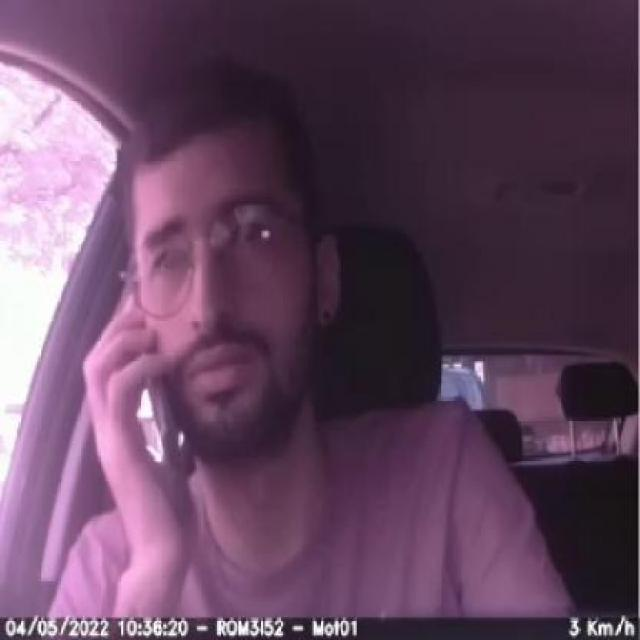using_phone: (48, 272, 223, 540)
